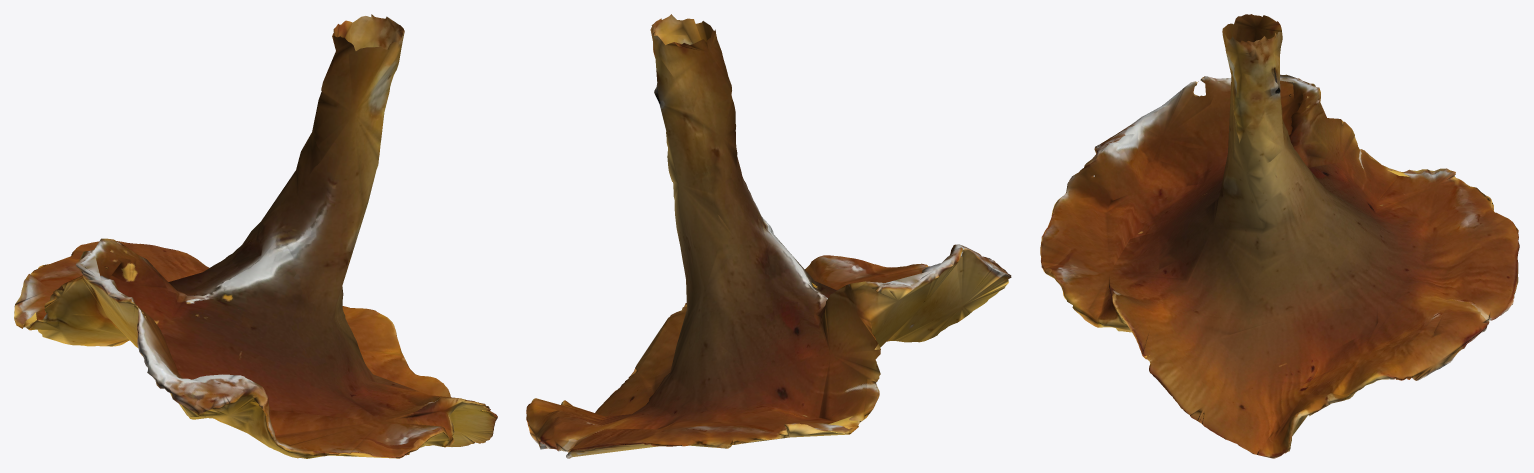
Rendered from LightShroomZ.gltf.
The picture shows the model from 3 angles, left to right: view 1: azimuth 30°, elevation 25°; view 2: azimuth 150°, elevation 25°; view 3: azimuth 270°, elevation 25°; orthographic projection. The views are drawn at different scales.
Parts seen in each view (by area): view 1: node-0; view 2: node-0; view 3: node-0.
Boxes of the visible parts, <box> form: node-0: <box>14,14,497,458</box>; node-0: <box>526,14,1011,458</box>; node-0: <box>1040,14,1519,458</box>.
Size of the model in its own units: 10.98 by 12.32 by 13.6.
1 material, 1 textured.
